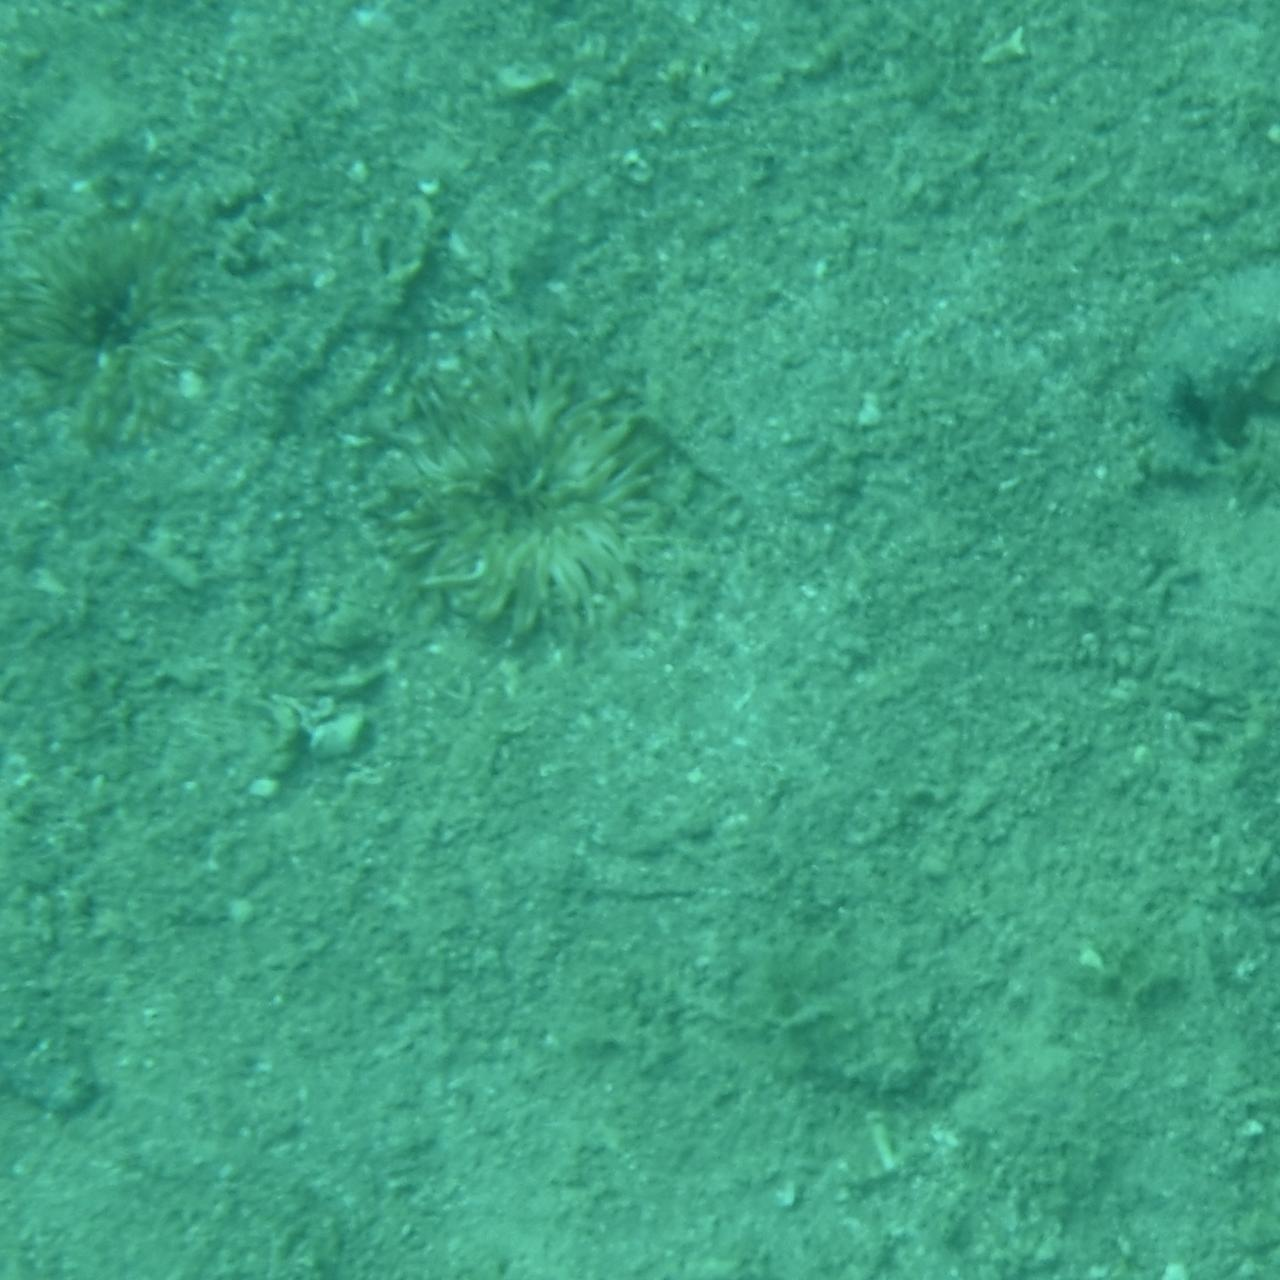Condylactis aurantiaca: (340, 331, 728, 679), (0, 189, 275, 443)
Holothuria tubulosa: (0, 804, 193, 1124), (1042, 264, 1280, 470)
